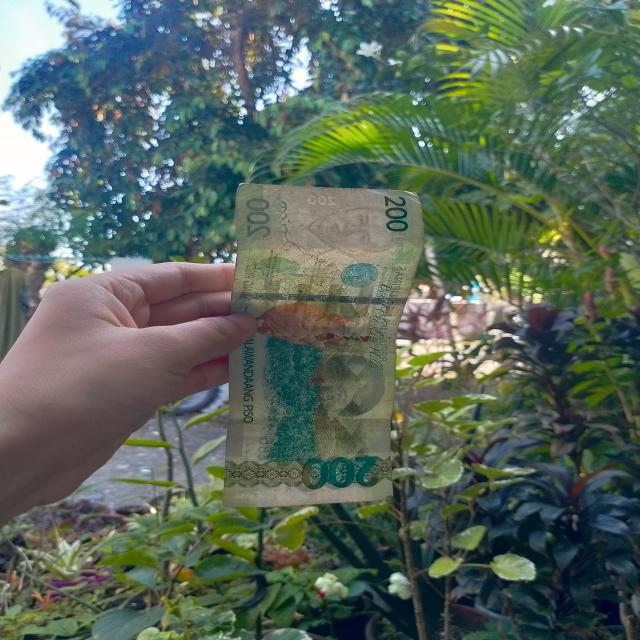security_thread: (230, 290, 404, 308)
see_through_mark: (270, 196, 292, 261)
value: (289, 453, 385, 497)
value_watermark: (301, 193, 338, 208)
watermark: (280, 204, 402, 259)
